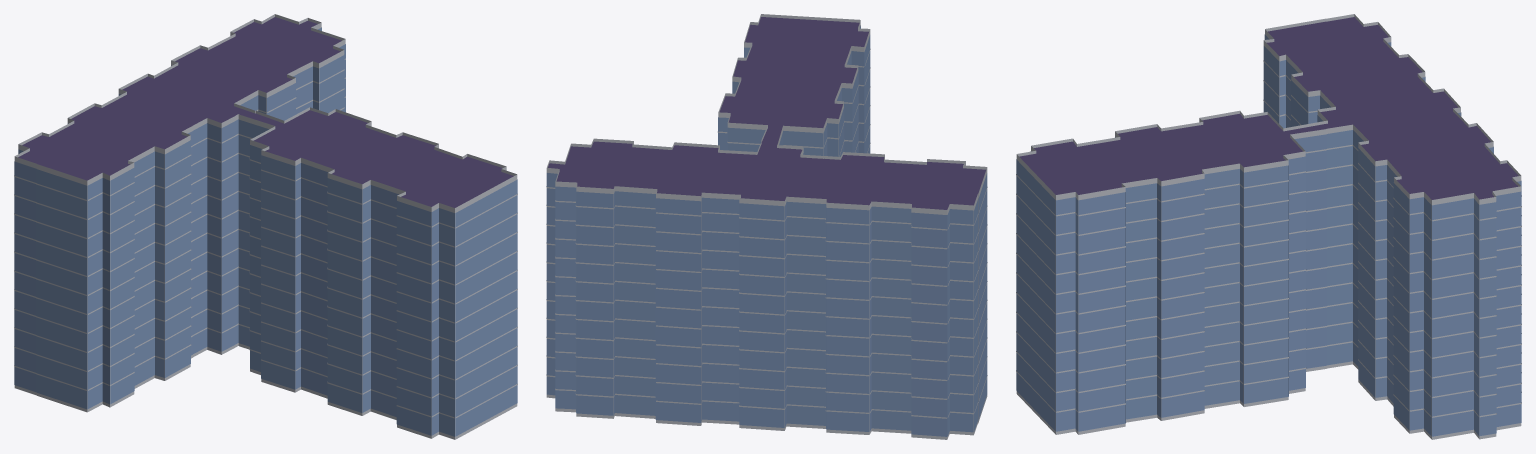
File: b-121-day.glb
3 renders of one model, left to right at view 1: azimuth 30°, elevation 25°; view 2: azimuth 150°, elevation 25°; view 3: azimuth 270°, elevation 25°, orthographic. The views are drawn at different scales.
Parts seen in each view (by area): view 1: campus/b-121-day-0; view 2: campus/b-121-day-0; view 3: campus/b-121-day-0.
Boxes of the visible parts, <box> form: campus/b-121-day-0: <box>14,14,517,439</box>; campus/b-121-day-0: <box>546,14,987,439</box>; campus/b-121-day-0: <box>1016,14,1521,439</box>.
Bounding box in the file's own units: 73.3 × 43.95 × 84.
